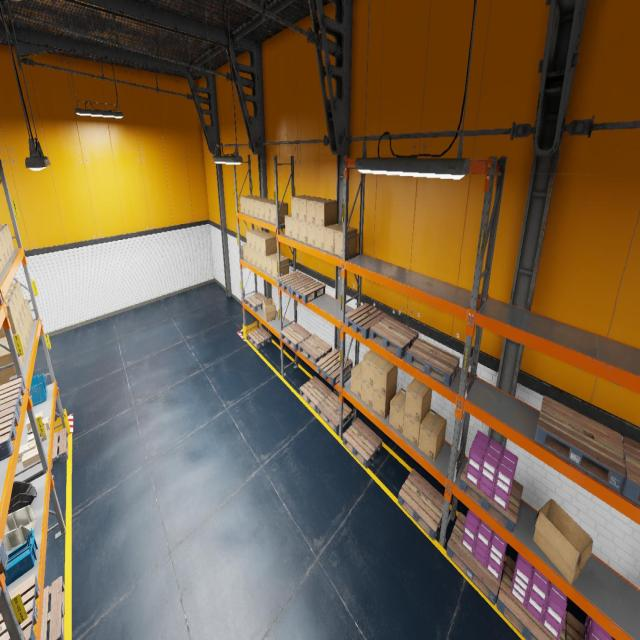box: (533, 499, 593, 584), (418, 409, 447, 462), (405, 378, 432, 423), (402, 409, 430, 447), (373, 357, 398, 396), (372, 385, 397, 419), (0, 334, 24, 368), (389, 388, 406, 435), (0, 298, 19, 338), (362, 350, 382, 387), (0, 344, 17, 385), (334, 226, 357, 256), (315, 199, 337, 226), (6, 286, 24, 317), (298, 196, 319, 222), (4, 292, 21, 324), (324, 224, 342, 254), (307, 197, 326, 224), (10, 280, 26, 310), (17, 439, 37, 462), (351, 360, 362, 400), (291, 195, 309, 219), (0, 223, 14, 252), (27, 423, 48, 442), (270, 202, 288, 224), (0, 226, 12, 258), (21, 448, 40, 468), (272, 256, 289, 278), (260, 234, 277, 256), (266, 253, 282, 276), (361, 379, 373, 409), (264, 201, 281, 222), (26, 411, 44, 430), (250, 230, 266, 251), (258, 199, 274, 220), (262, 298, 276, 321), (255, 232, 270, 253), (17, 326, 26, 360), (31, 416, 50, 432), (246, 228, 261, 248), (0, 230, 9, 262), (19, 318, 28, 350), (254, 198, 268, 218), (240, 195, 255, 213), (249, 197, 263, 216), (244, 196, 258, 215), (24, 299, 33, 327), (315, 225, 324, 250), (22, 311, 29, 342), (0, 237, 7, 267), (24, 305, 31, 334), (307, 222, 315, 247), (284, 214, 292, 238), (299, 220, 307, 243), (292, 218, 299, 241), (261, 254, 266, 272), (256, 251, 261, 269), (247, 247, 252, 263), (243, 243, 247, 261), (252, 249, 256, 266), (0, 254, 3, 273)
pallets: (535, 395, 625, 492), (496, 556, 566, 639), (446, 512, 506, 605), (459, 458, 523, 533), (398, 469, 444, 540), (406, 338, 460, 387), (0, 574, 39, 639), (370, 316, 418, 358), (342, 418, 382, 468), (40, 576, 65, 639), (345, 303, 387, 339), (317, 392, 352, 433), (316, 349, 352, 386), (622, 436, 640, 505), (300, 376, 331, 412), (298, 334, 332, 366), (0, 406, 19, 461), (0, 378, 25, 417), (290, 278, 326, 304), (280, 322, 311, 351), (276, 270, 310, 294), (52, 427, 68, 468), (247, 327, 272, 349), (565, 612, 584, 640), (245, 292, 268, 312), (0, 539, 8, 596)
